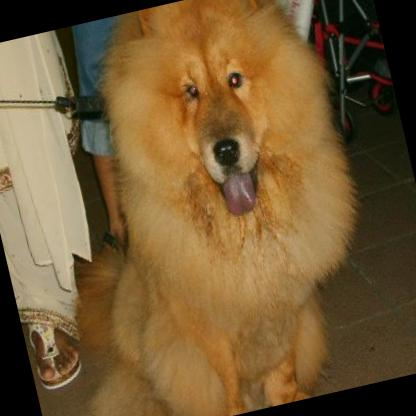chow: (3, 0, 398, 416)
